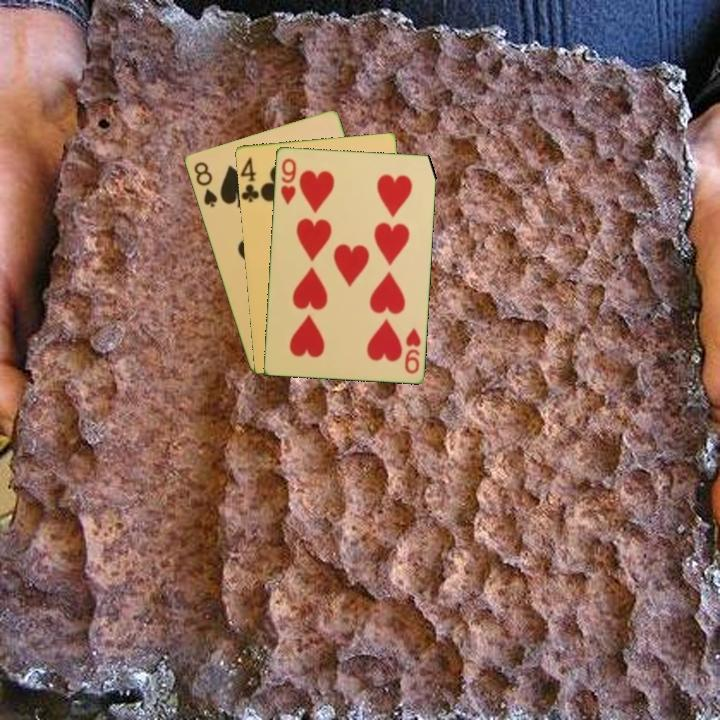4c: (237, 154, 262, 205)
8s: (190, 158, 220, 210)
9h: (277, 154, 299, 207), (401, 324, 423, 377)
